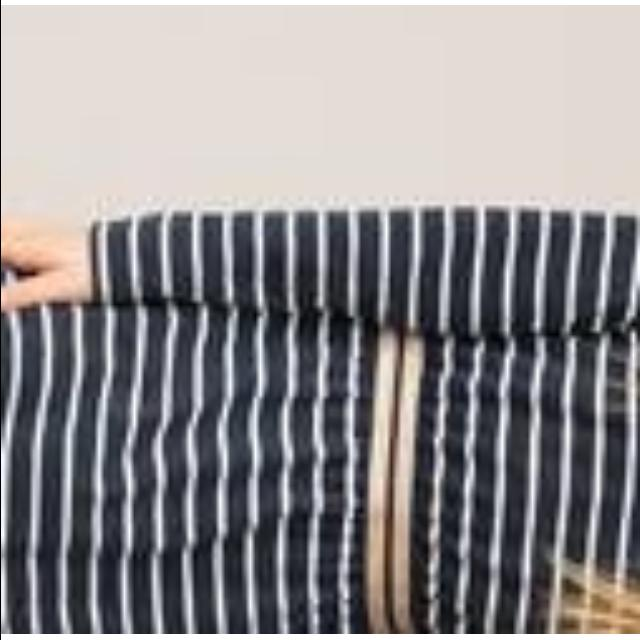cotton: (0, 197, 640, 635)
